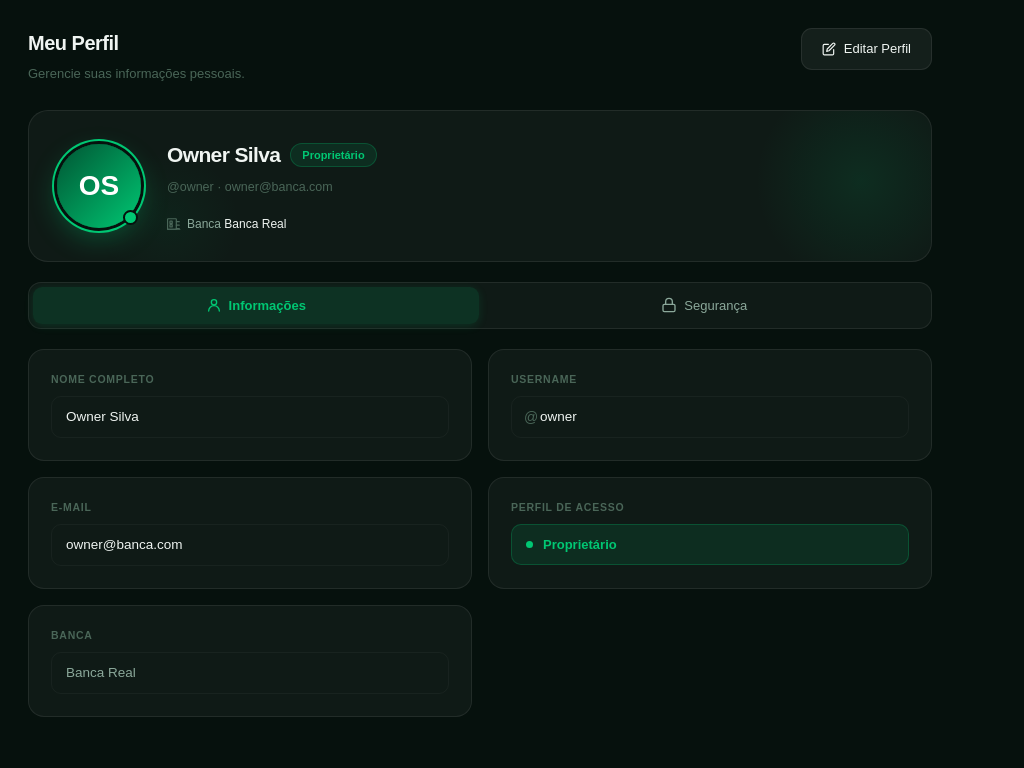
PerfilPage › não exibe a aba Atividade nem o toggle de 2FA fabricado; a aba Segurança navega para conteúdo real
The width and height of the screenshot is (1024, 768).
Check: the field showing "Owner Silva" is shown, box [51,396,449,438]
Click the tab "Segurança" at (704, 305), box [482,287,927,324]
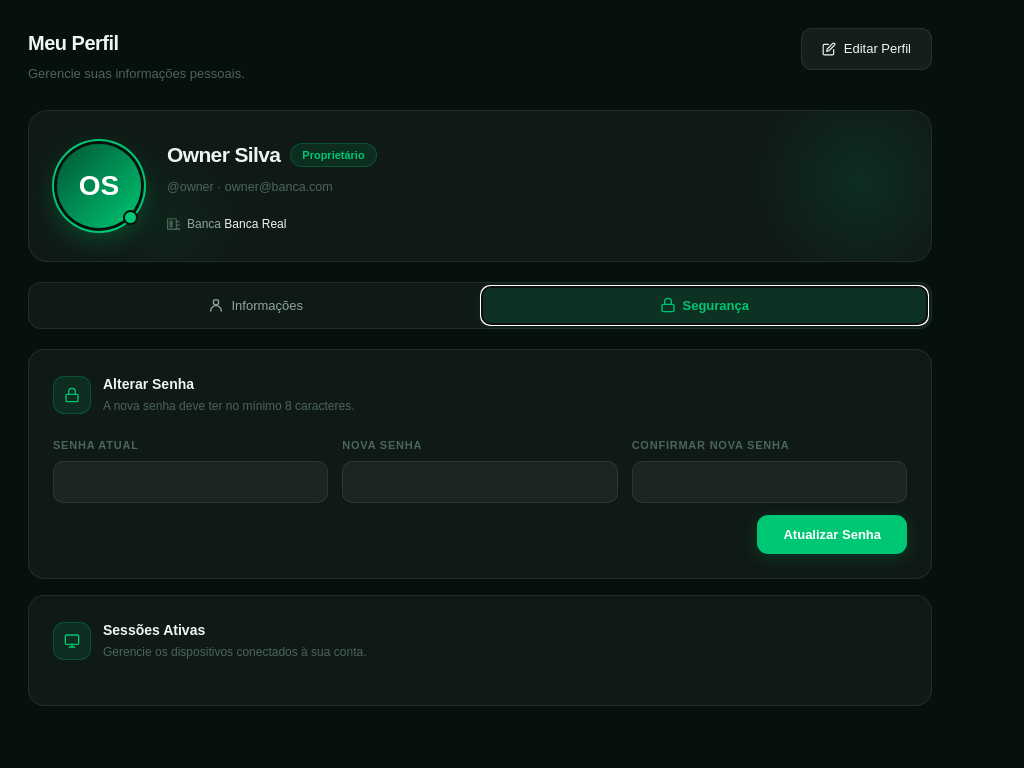
Check: the text "Sessões Ativas" is shown, box [103,622,205,638]
Check: the text "Alterar Senha" is shown, box [103,376,194,392]
